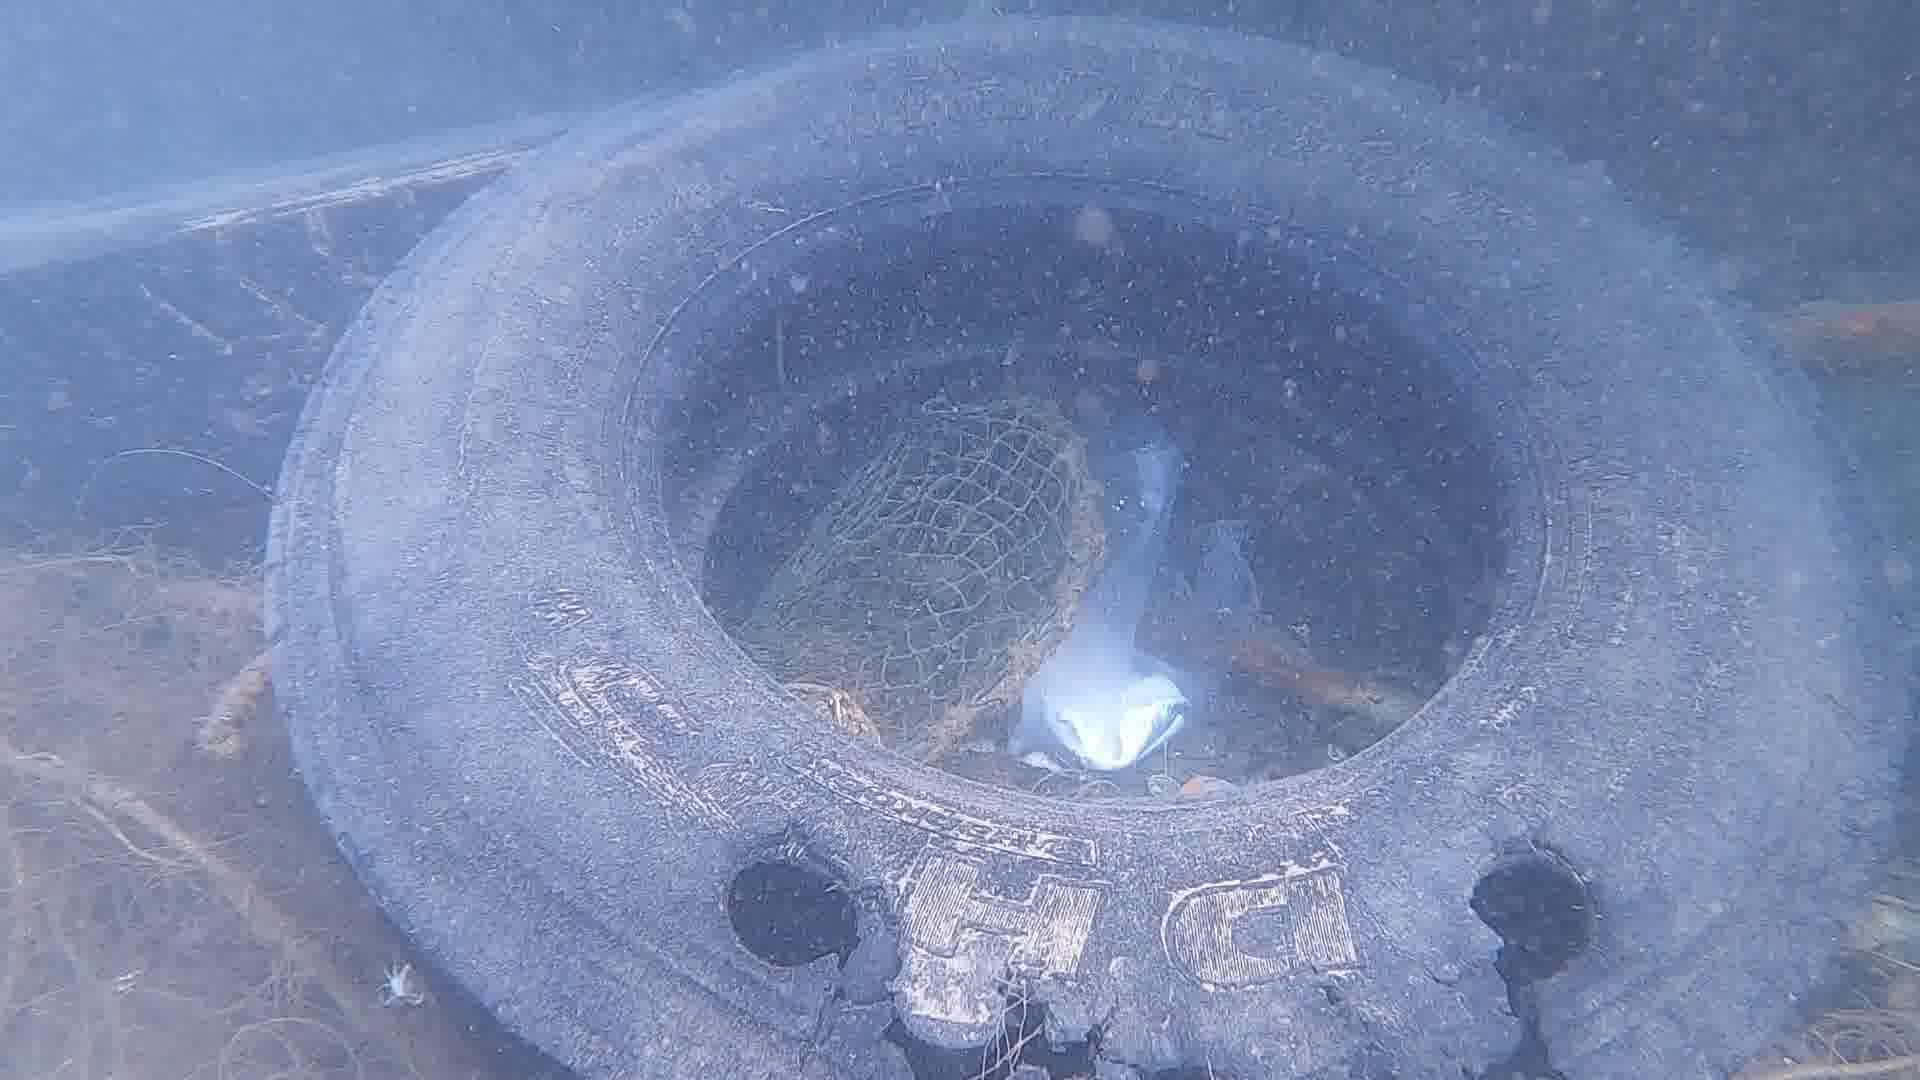fish net: (829, 396, 1079, 684)
tire: (258, 9, 1904, 1068)
